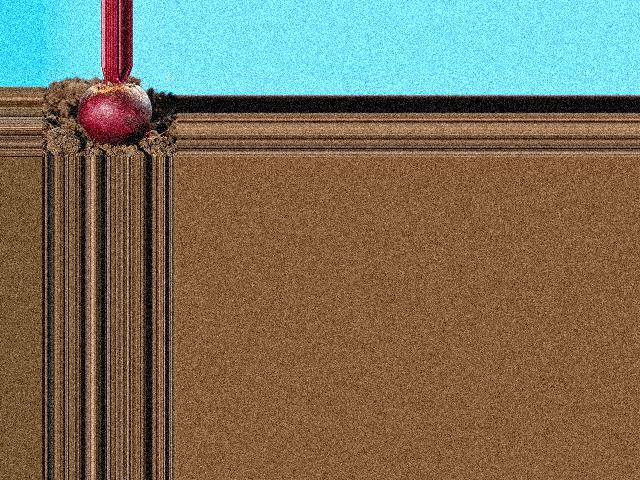beet: (78, 66, 152, 144)
